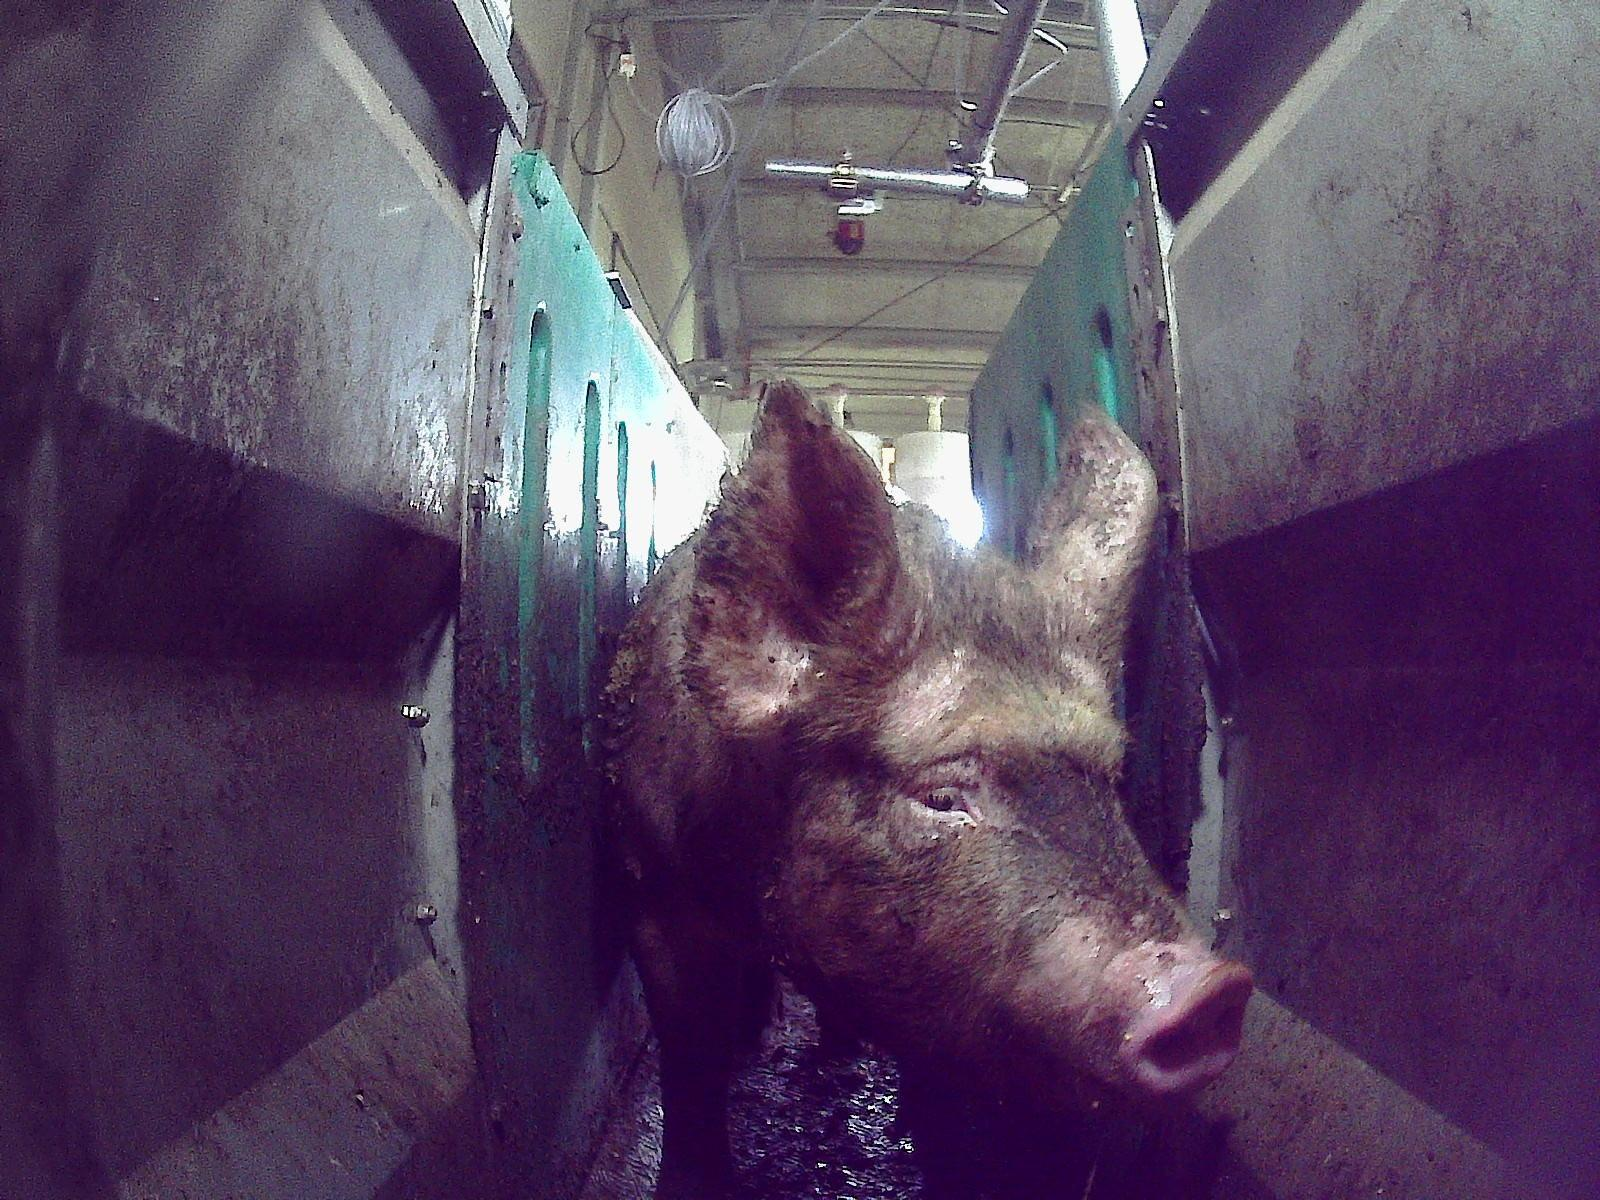Face: (791, 561, 1250, 1114)
